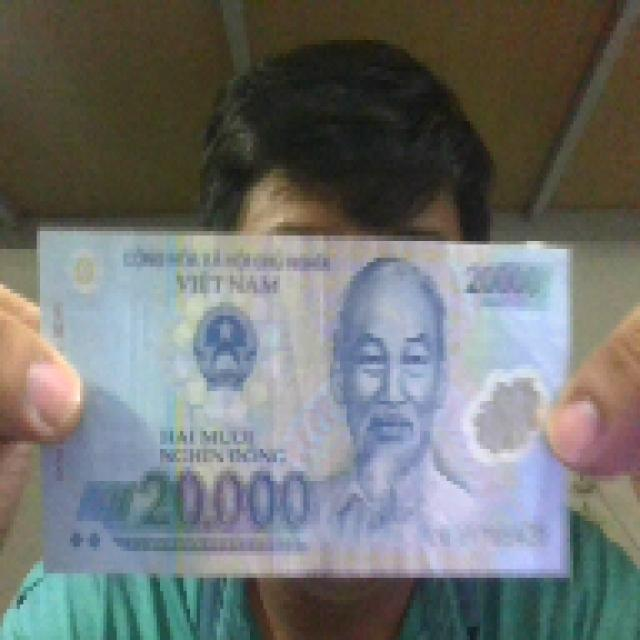20 000 VND: (33, 218, 577, 582)
